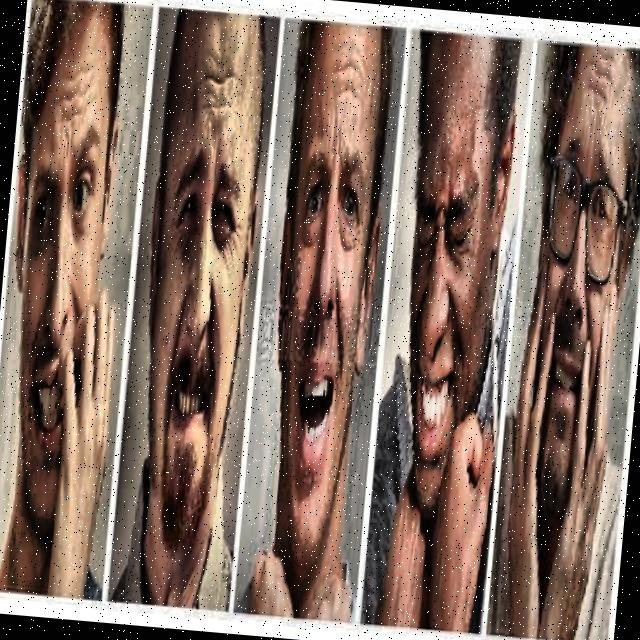fear: (485, 44, 640, 640), (366, 36, 527, 577), (248, 20, 401, 563), (128, 23, 282, 544)
